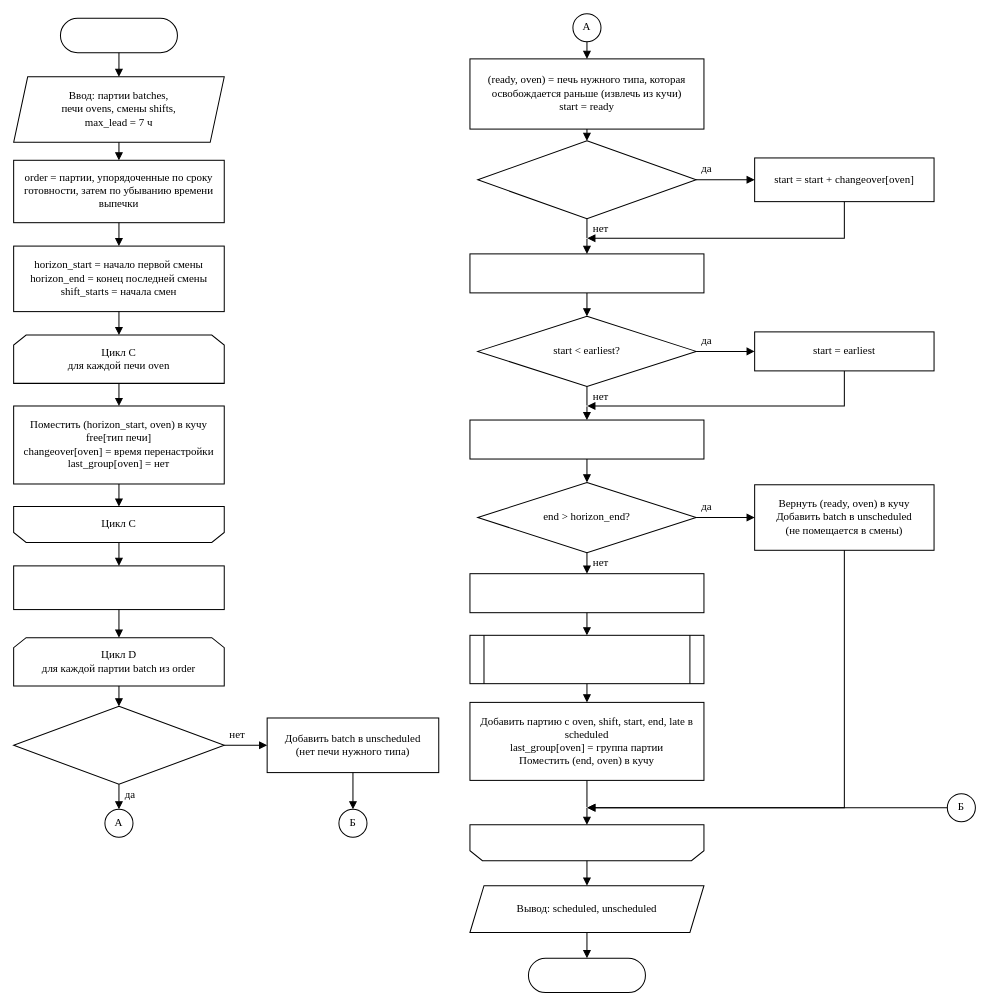
Image size: 990x1007. Some labels were removed from this diagram. Here are the shapes that lost their labels. From the top down, the centre of each, then its label:
the point at 119,35: Начало
the point at 586,179: Группа изделий на печи сменилась?
the point at 586,273: earliest = срок готовности - max_lead
the point at 586,439: end = start + время выпечки
the point at 118,587: scheduled = [ ] unscheduled = [ ]
the point at 586,593: late = end > срок готовности
the point at 586,659: shift = find_shift(shifts, shift_starts, start)
the point at 118,744: Есть печи типа партии?
the point at 586,842: Цикл D
the point at 587,975: Конец
